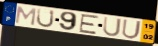9: (59, 11, 80, 32)
E: (78, 14, 100, 35)
M: (14, 6, 38, 27)
U: (121, 19, 143, 40), (103, 16, 123, 38), (36, 7, 56, 28)
